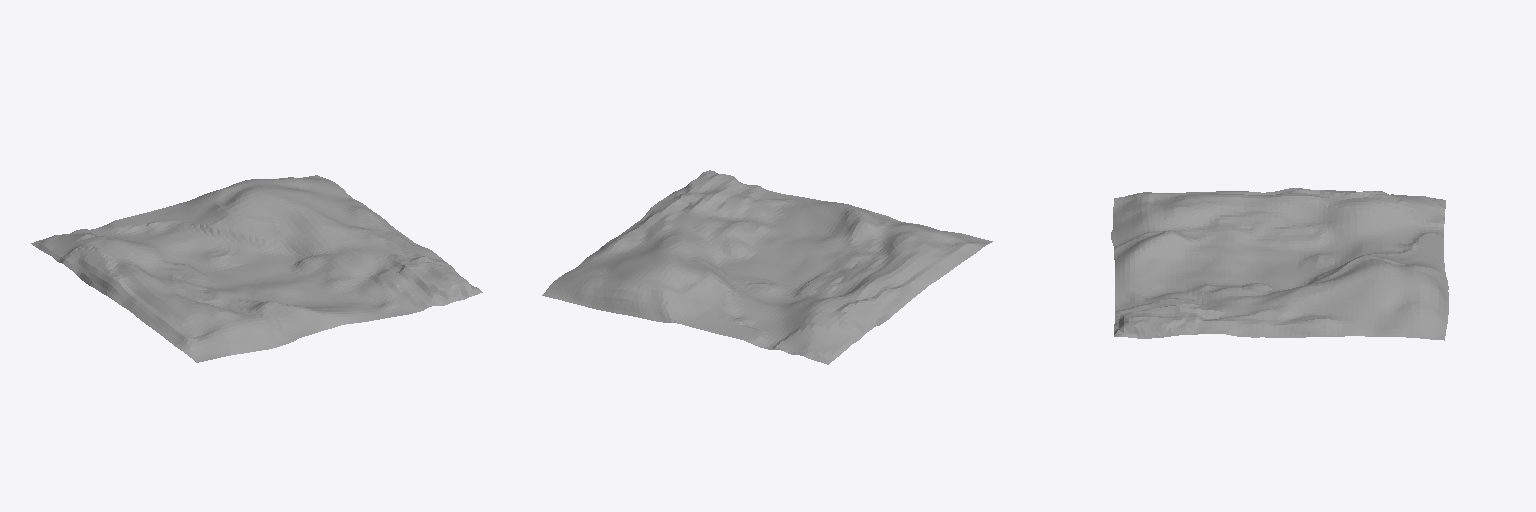
Rendered from ter2.obj.
3 views of the same model, side by side, from view 1: azimuth 30°, elevation 25°; view 2: azimuth 150°, elevation 25°; view 3: azimuth 270°, elevation 25° (orthographic).
Visible parts, largest first — view 1: Plane_Plane.002; view 2: Plane_Plane.002; view 3: Plane_Plane.002.
Boxes of the visible parts, x1=… form: Plane_Plane.002: x1=31, y1=175, x2=482, y2=362; Plane_Plane.002: x1=542, y1=170, x2=992, y2=364; Plane_Plane.002: x1=1111, y1=188, x2=1448, y2=340.
Bounding box in the file's own units: 63.5 × 6.28 × 63.96.